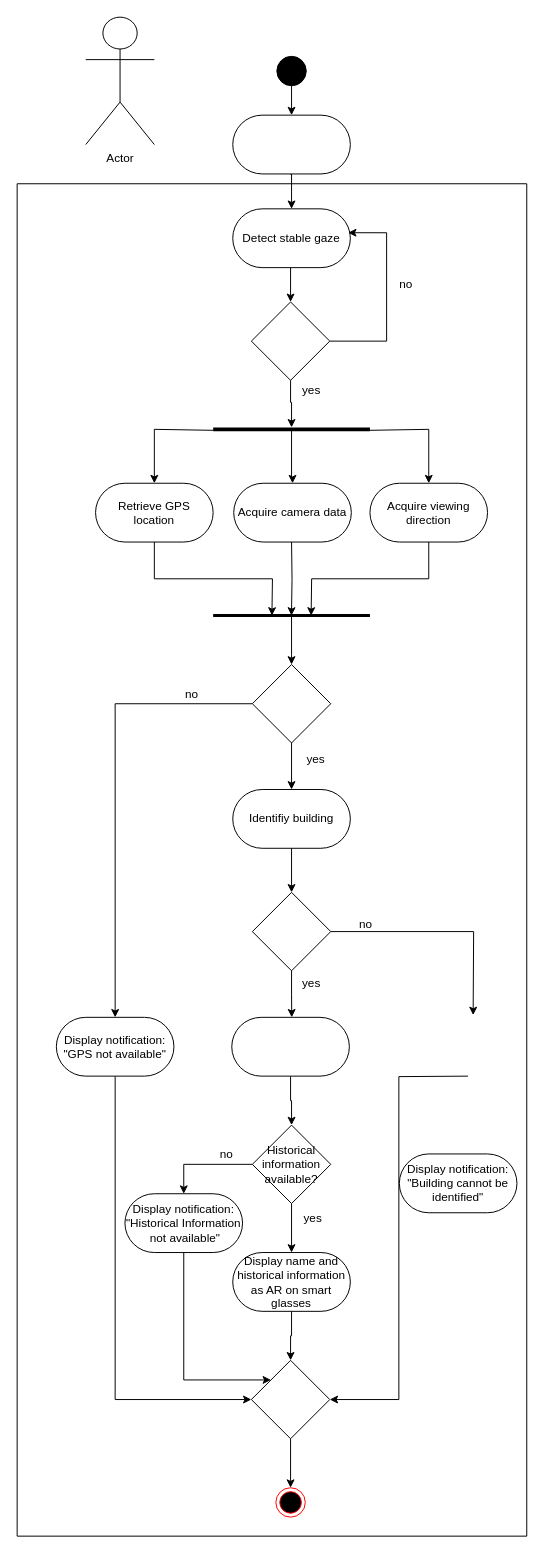
Image size: 544x1553. Some labels were removed from this diagram. The shapes that lost their labels are listed below. From the top down, each one's centre as x and y in pixels, then its label:
At point (291, 144): "User looks at building".
At point (290, 340): "Stable gaze detected?".
At point (291, 703): "GPS available?".
At point (291, 931): "Building identified?".
At point (290, 1046): "Retrieve historical information".
